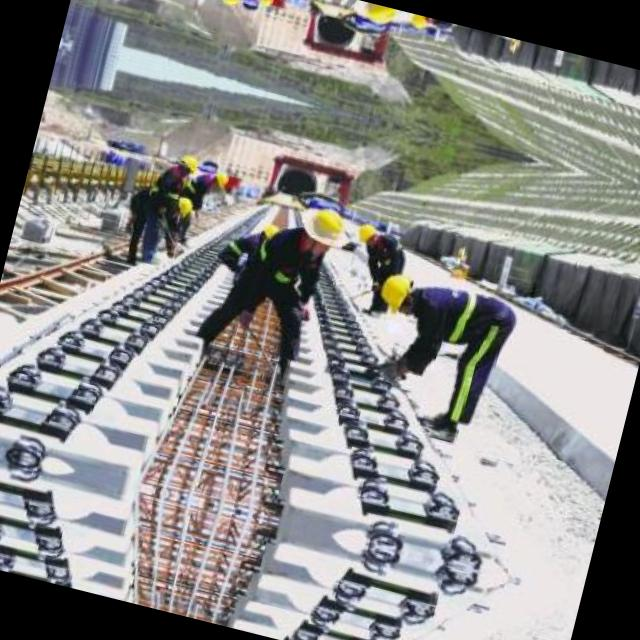helmet: (372, 266, 421, 316), (300, 202, 352, 248), (355, 0, 403, 32), (349, 215, 387, 255), (168, 148, 205, 184), (163, 190, 201, 222), (403, 12, 439, 39), (202, 163, 232, 194), (257, 218, 287, 248), (210, 0, 247, 11), (247, 0, 277, 12)
